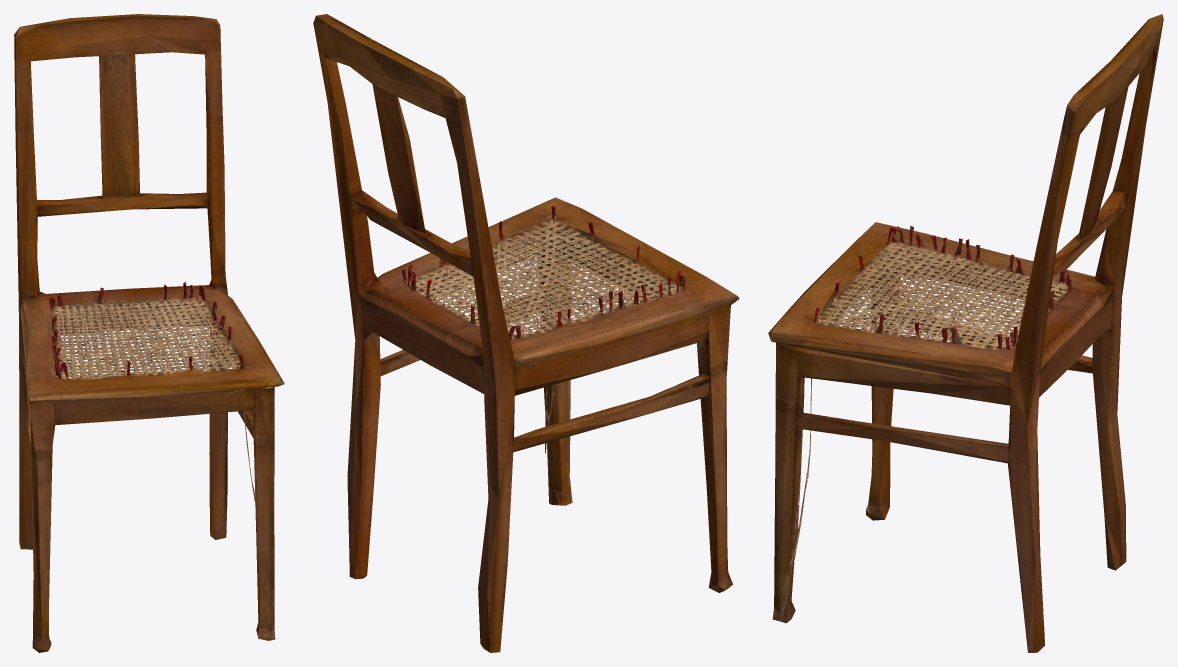
File: 25DD9ABE-C45F-5D49-B339-6F5CD4FFCAC8_512.glb
The picture shows the model from 3 angles, left to right: view 1: azimuth 30°, elevation 25°; view 2: azimuth 150°, elevation 25°; view 3: azimuth 270°, elevation 25°; orthographic projection. The views are drawn at different scales.
Visible parts, largest first — view 1: Stuhlgeflecht(wip)_25k_1k; view 2: Stuhlgeflecht(wip)_25k_1k; view 3: Stuhlgeflecht(wip)_25k_1k.
Part boxes in pixels (<box>): Stuhlgeflecht(wip)_25k_1k: <box>14,14,284,652</box>; Stuhlgeflecht(wip)_25k_1k: <box>313,14,739,652</box>; Stuhlgeflecht(wip)_25k_1k: <box>768,14,1163,652</box>.
Size of the model in its own units: 0.5293 by 0.9178 by 0.5784.
Materials: 1 (1 with a texture image).
